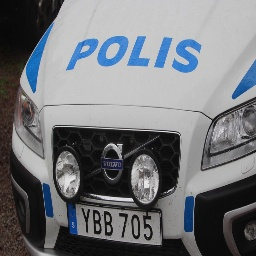sv_licence_plate: (67, 203, 163, 245)
